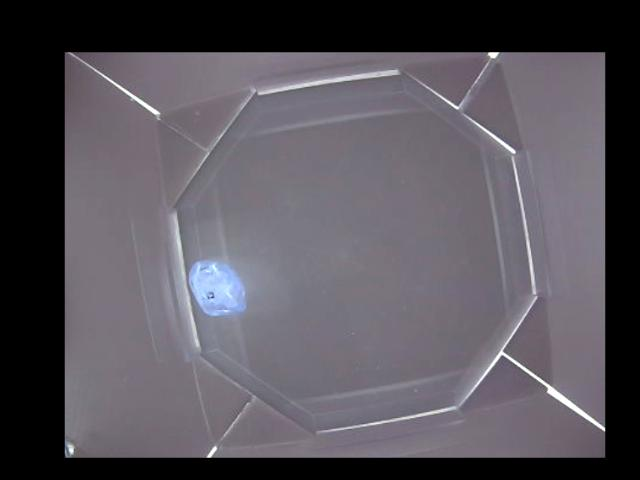Pebble: (190, 257, 248, 313)
